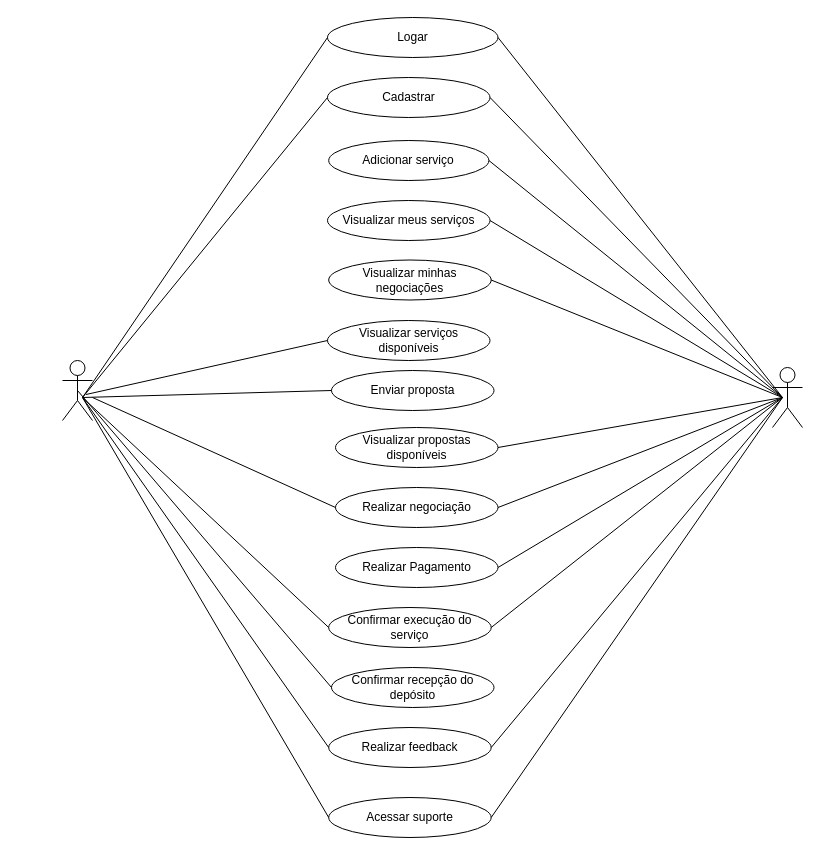
Some shapes in this 836 by 855 pixel diagram are drawn without their labels. Each missing label, with the box of its shape:
Contratante: (772, 366, 802, 428)
Prestador De Serviços: (62, 360, 92, 420)
